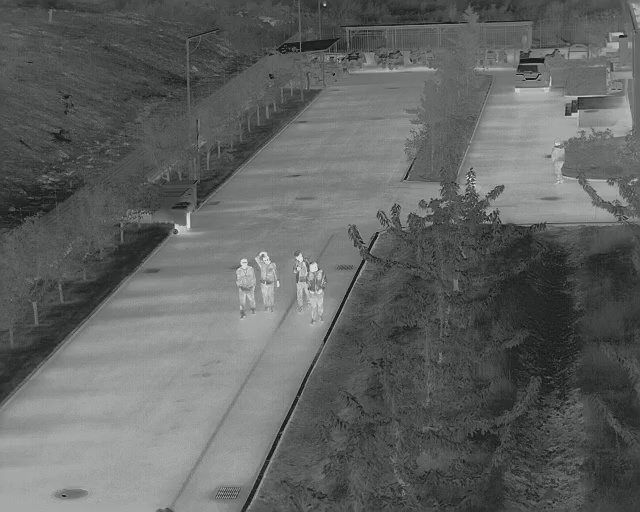person: (256, 250, 280, 313), (307, 259, 327, 327), (236, 257, 255, 319), (290, 249, 308, 313), (548, 137, 567, 186)
vehicle: (510, 58, 555, 97)
